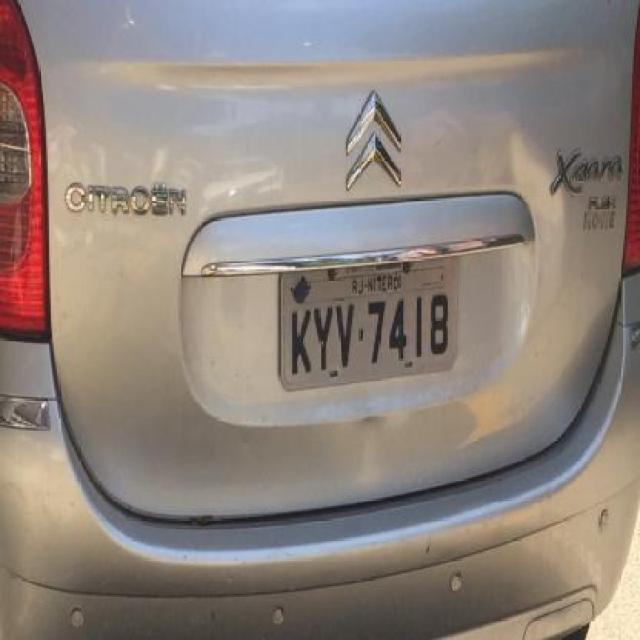old_plate: (267, 245, 465, 395)
